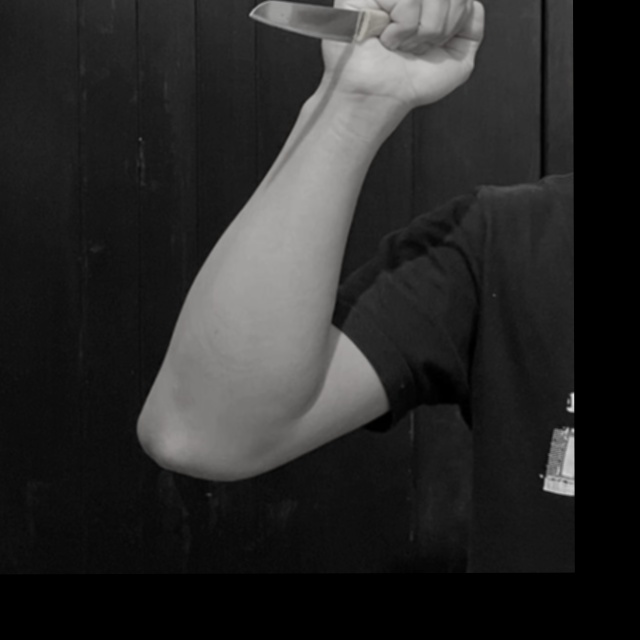Sharp-Object: (245, 0, 392, 47)
